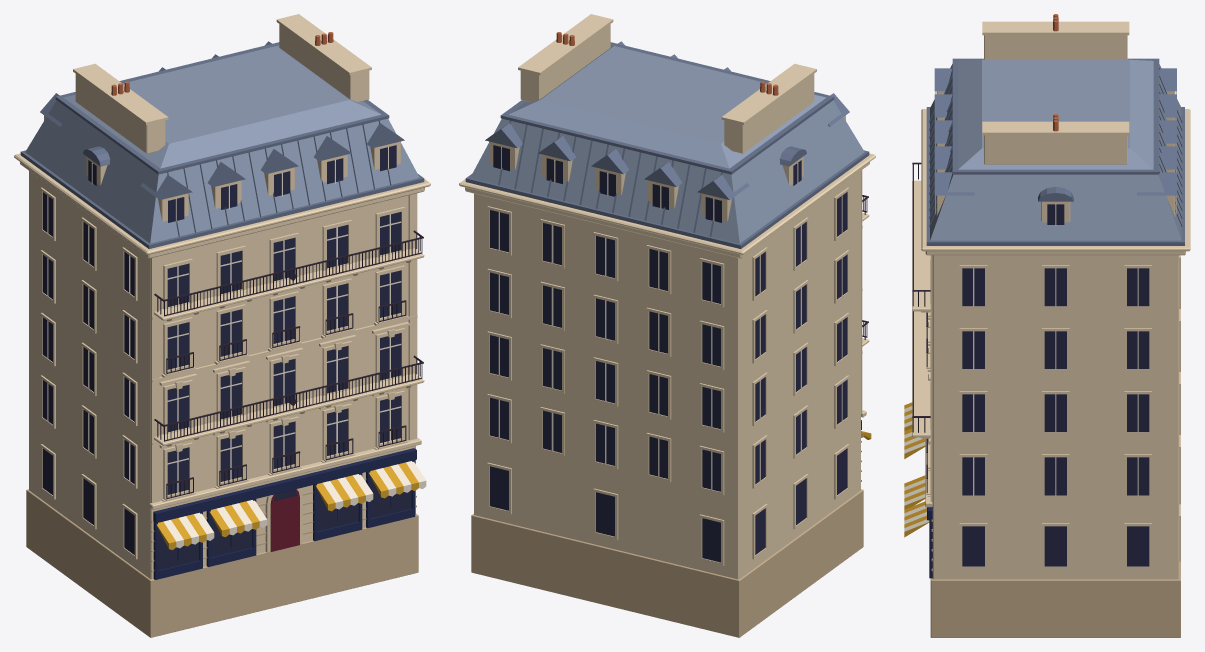
The model's file is paris_haussmann.glb.
3 renders of one model, left to right at view 1: azimuth 30°, elevation 25°; view 2: azimuth 150°, elevation 25°; view 3: azimuth 270°, elevation 25°, orthographic.
Parts seen in each view (by area): view 1: paris_haussmann; view 2: paris_haussmann; view 3: paris_haussmann.
Boxes of the visible parts, box(x1,y1,x2,y2) form: paris_haussmann: box(14, 14, 430, 637); paris_haussmann: box(459, 14, 875, 637); paris_haussmann: box(904, 14, 1190, 637).
Size of the model in its own units: 14.75 by 24.8 by 12.75.
